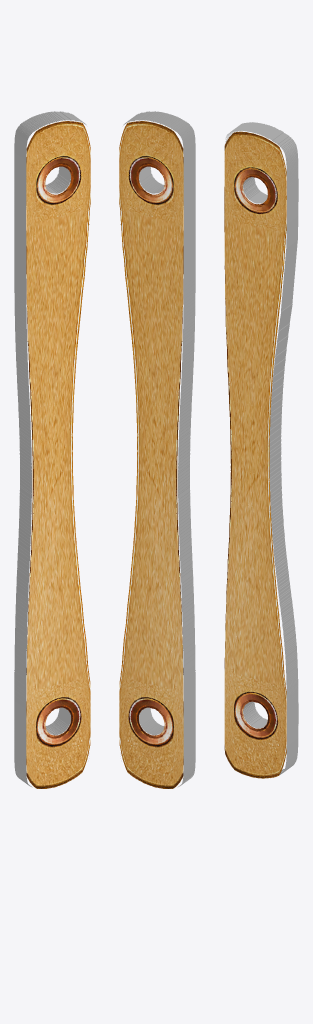
File: UpperLeg.glb
3 renders of one model, left to right at view 1: azimuth 30°, elevation 25°; view 2: azimuth 150°, elevation 25°; view 3: azimuth 330°, elevation 25°, orthographic. The views are drawn at different scales.
Parts seen in each view (by area): view 1: PaperVolume; view 2: PaperVolume; view 3: PaperVolume.
Boxes of the visible parts, <box> form: PaperVolume: <box>14,111,90,788</box>; PaperVolume: <box>119,111,195,788</box>; PaperVolume: <box>224,122,298,778</box>.
Bounding box in the file's own units: 0.25 × 3.71 × 0.08.
Materials: 3 (2 with a texture image).
